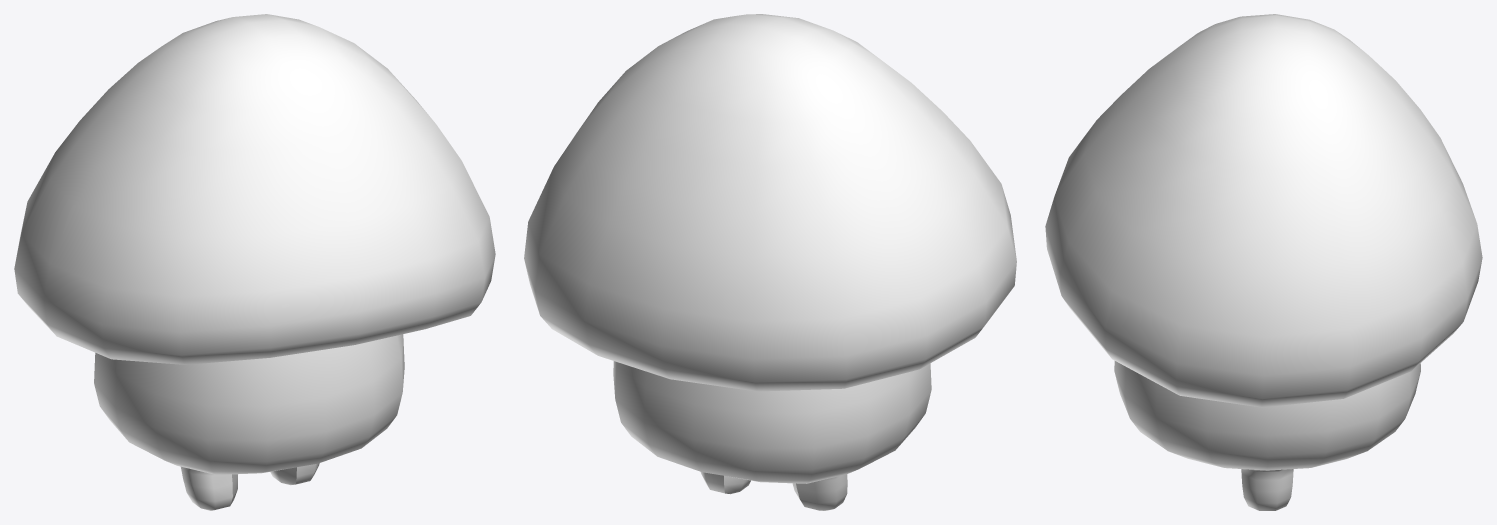
File: mushroomEdit.glb
The picture shows the model from 3 angles, left to right: view 1: azimuth 30°, elevation 25°; view 2: azimuth 150°, elevation 25°; view 3: azimuth 270°, elevation 25°; orthographic projection. The views are drawn at different scales.
Visible parts, largest first — view 1: Cube.006; view 2: Cube.006; view 3: Cube.006.
Part boxes in pixels (bbox=[...]): Cube.006: bbox=[14, 14, 495, 510]; Cube.006: bbox=[524, 14, 1016, 510]; Cube.006: bbox=[1045, 14, 1482, 510].
Size of the model in its own units: 112 by 117 by 101.
1 material, 1 textured.
